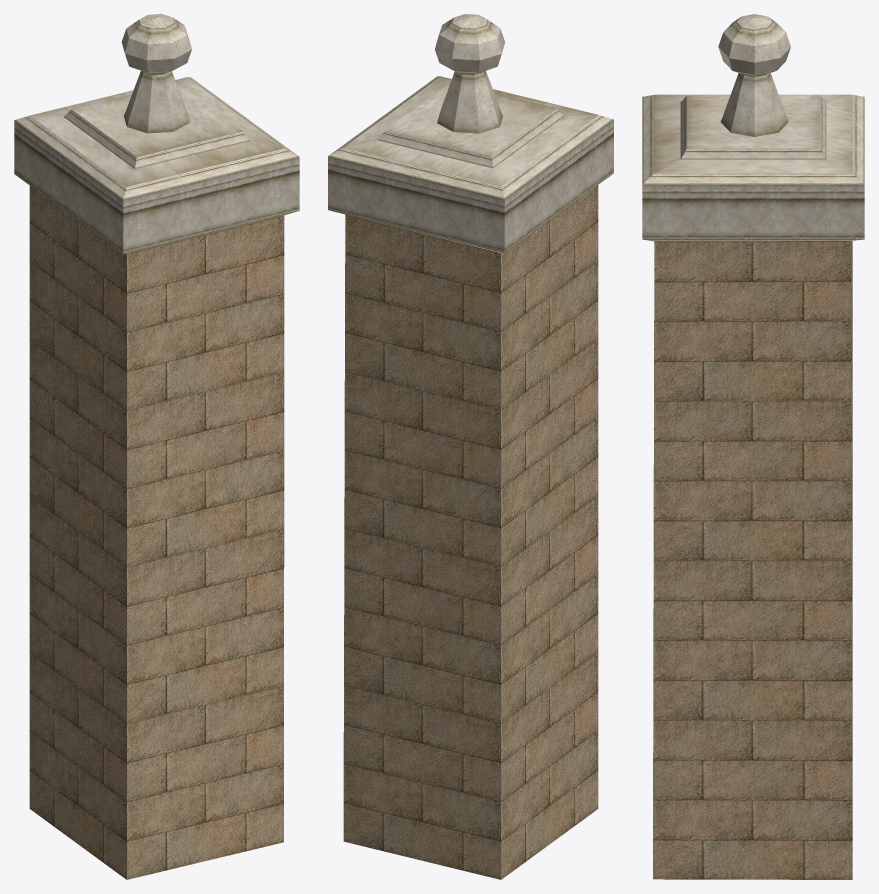
File: thm_nboo_imprv_pillar_s01_l0.fbx
3 renders of one model, left to right at view 1: azimuth 30°, elevation 25°; view 2: azimuth 150°, elevation 25°; view 3: azimuth 270°, elevation 25°, orthographic.
Visible parts, largest first — view 1: mesh_node; view 2: mesh_node; view 3: mesh_node.
Part boxes in pixels (bbox=[...]): mesh_node: bbox=[14, 14, 299, 879]; mesh_node: bbox=[328, 14, 613, 879]; mesh_node: bbox=[642, 14, 864, 879].
Size of the model in its own units: 2.28 by 9.95 by 2.43.
Materials: 1 (1 with a texture image).
